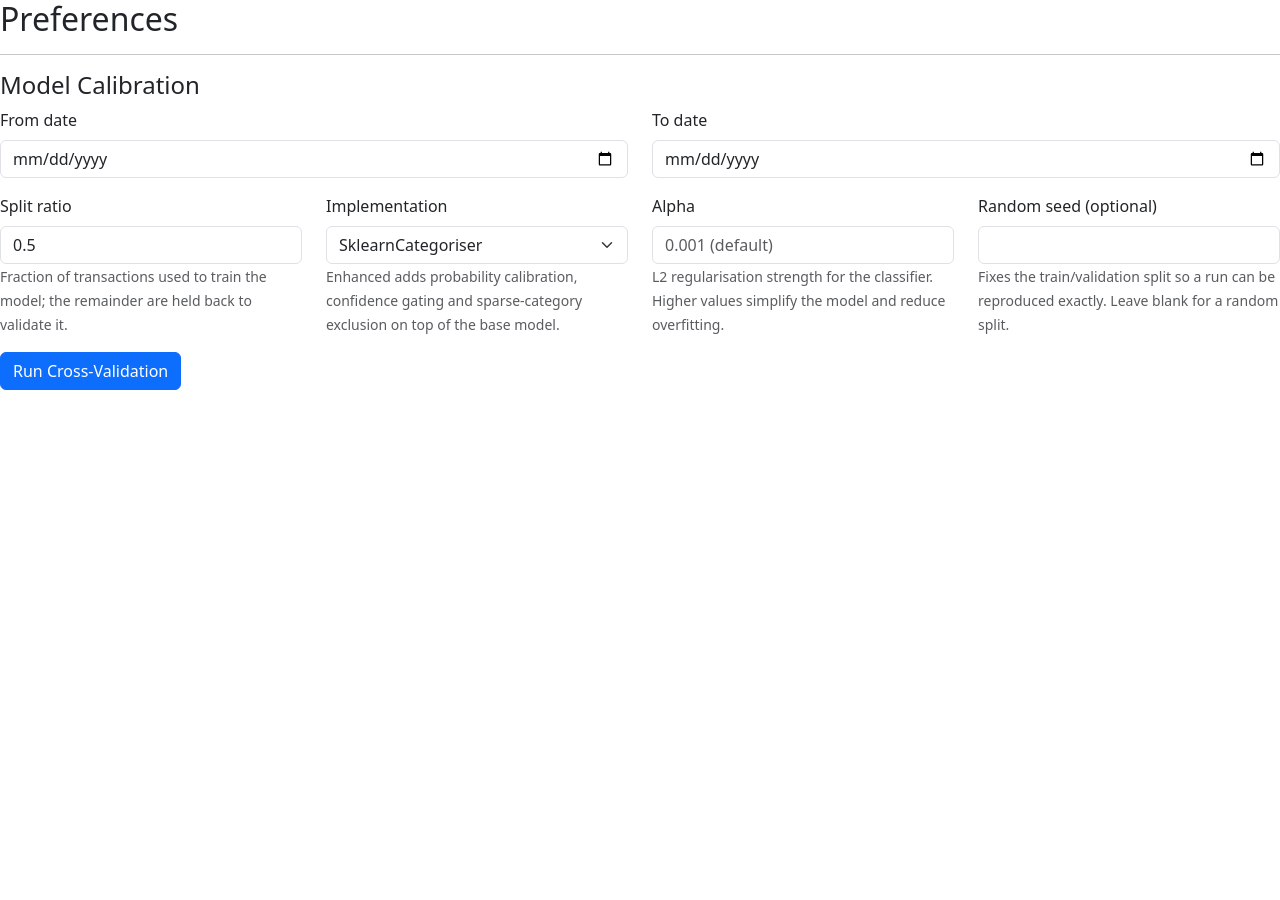
Preferences › should dismiss success alert and clear saved model
Type "2025-01-01" into the date field labelled "From date". click: (314, 159)
box: x1=0 y1=140 x2=628 y2=178
Type "2025-12-31" into the date field labelled "To date". click: (966, 159)
box: x1=652 y1=140 x2=1279 y2=178
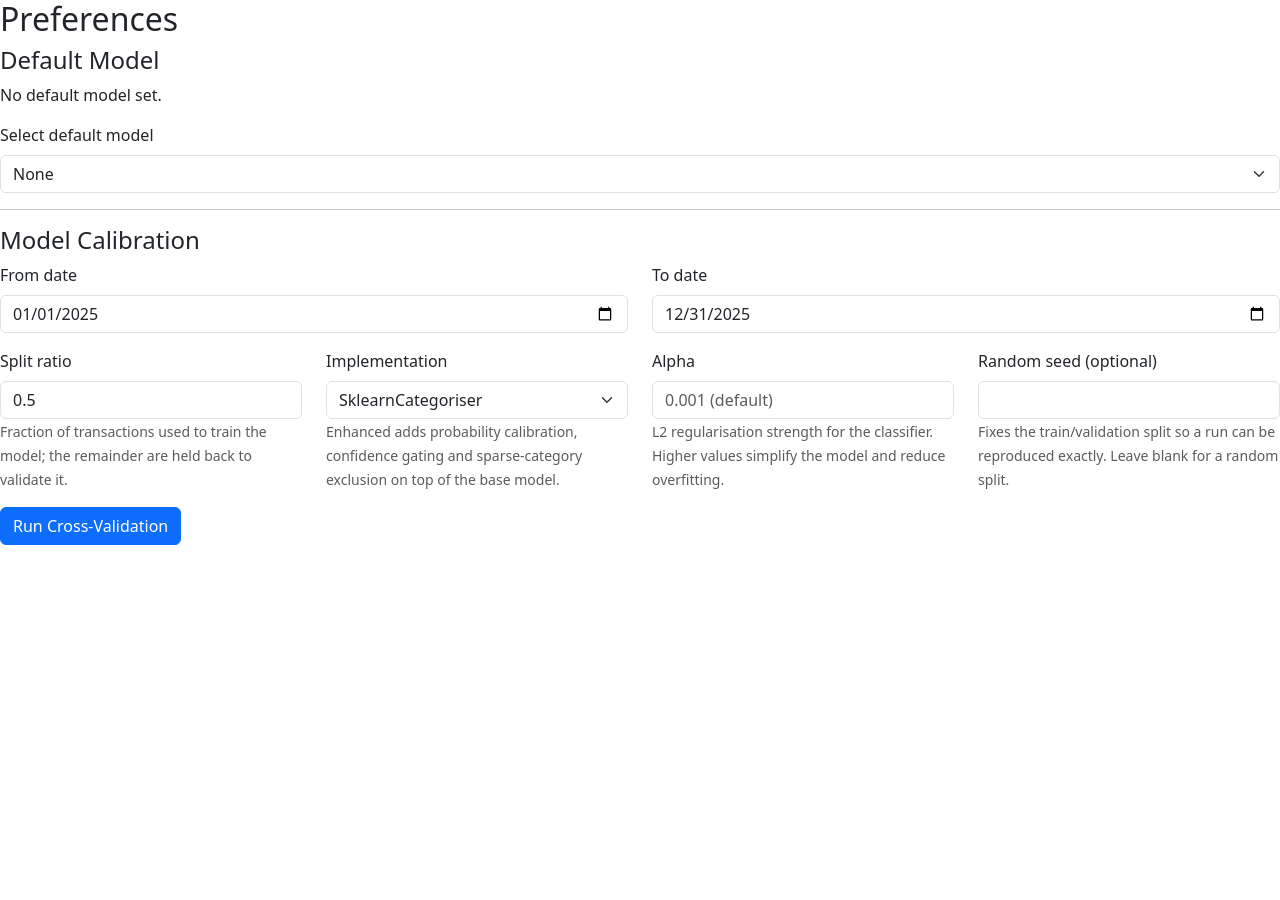
Click the button "Run Cross-Validation". click: (91, 526)
box: x1=0 y1=507 x2=181 y2=545
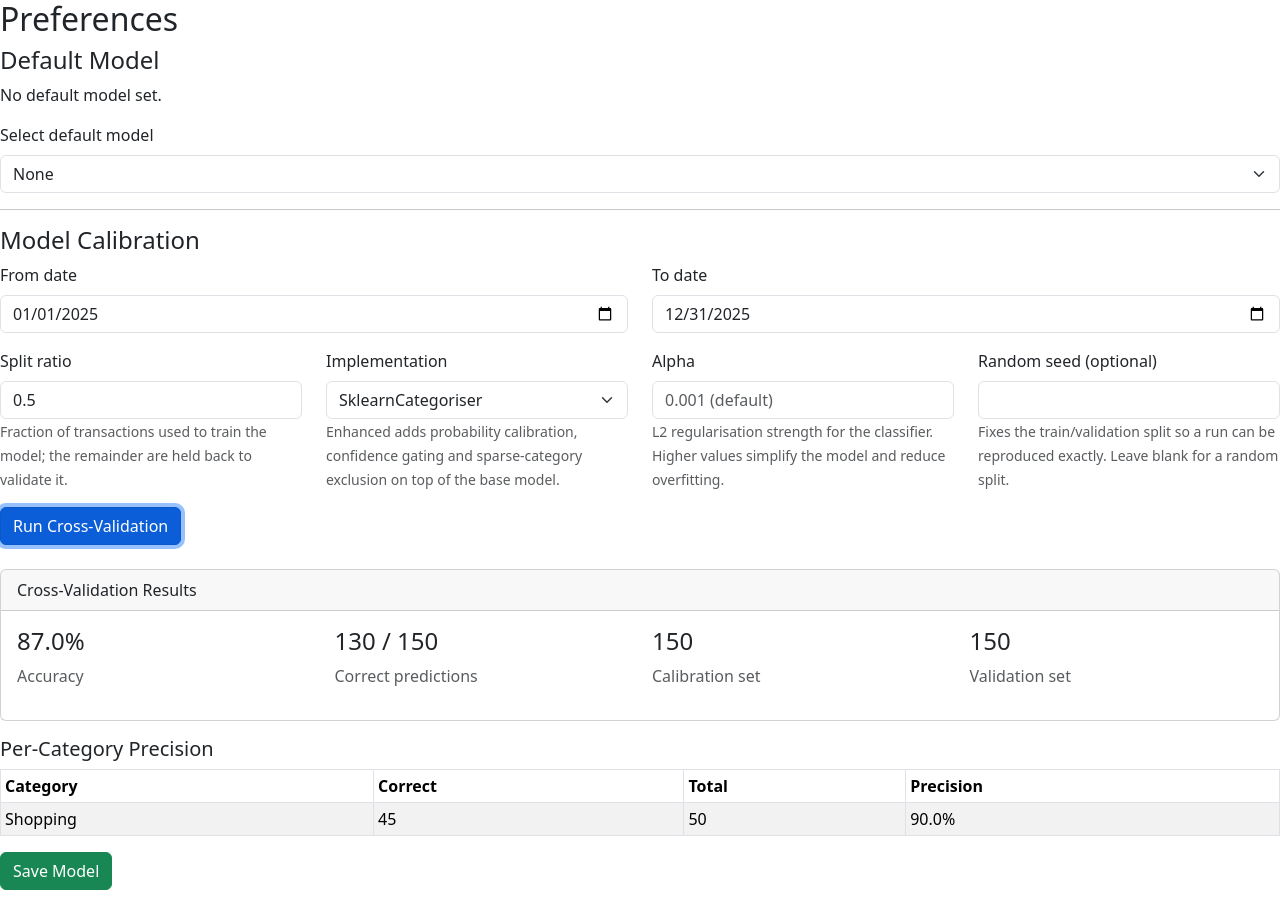
Expected: the button "Save Model" is shown
Click the button "Save Model". click: (56, 871)
box: x1=0 y1=852 x2=112 y2=890
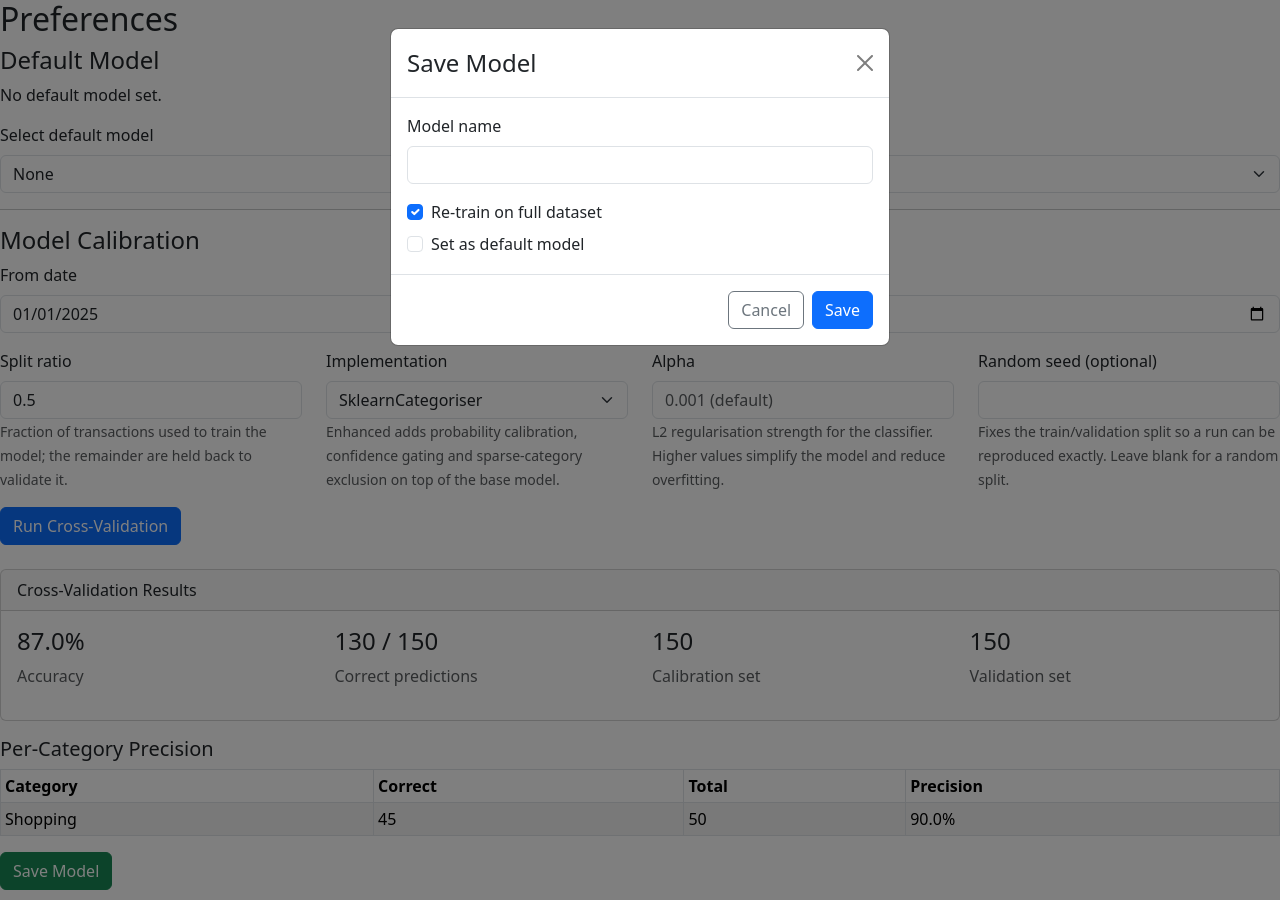
Expected: the field labelled "Model name" is shown
Type "my-model" into the field labelled "Model name". click: (640, 165)
box: x1=407 y1=146 x2=873 y2=184
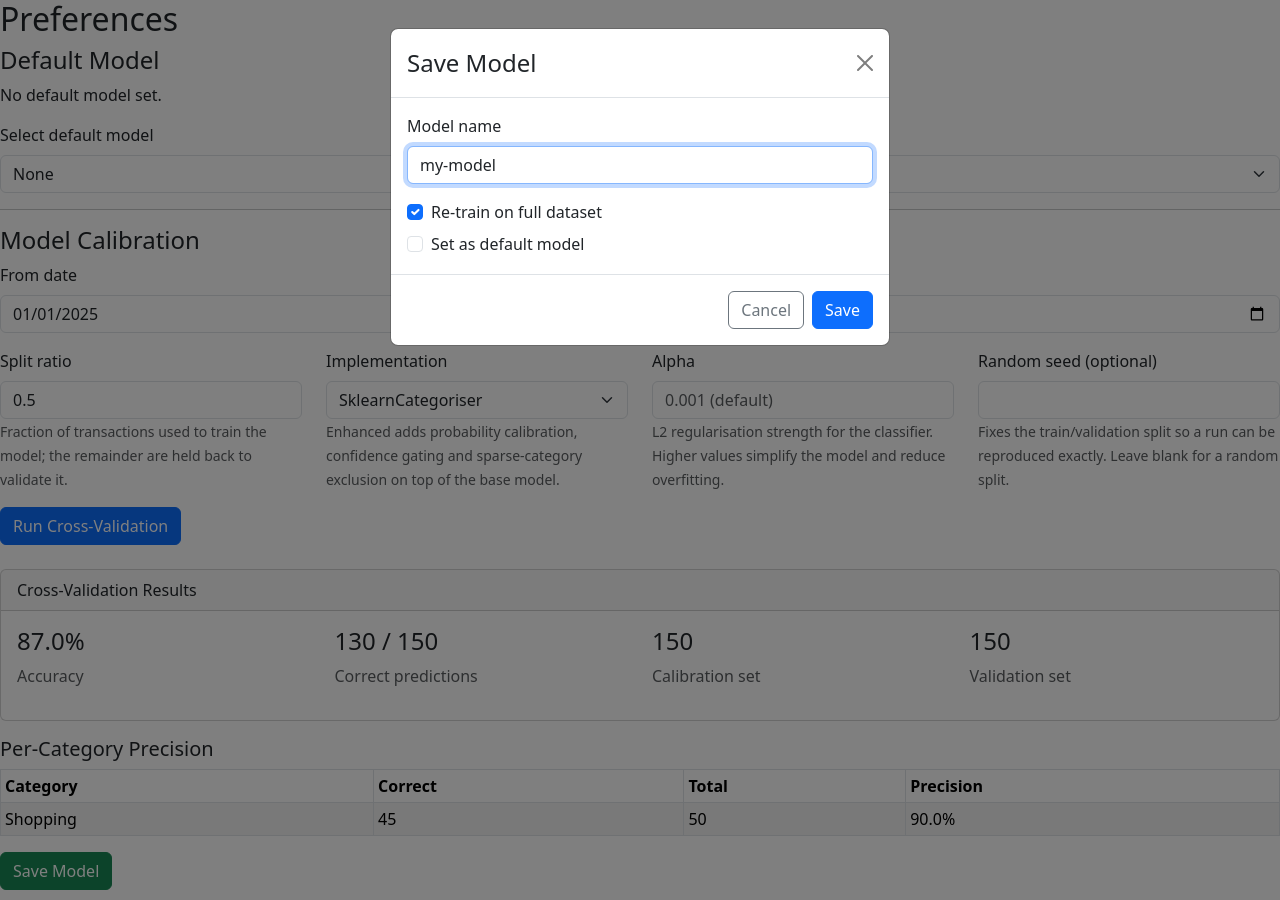
Click the button "Save". click: (843, 310)
box: x1=812 y1=291 x2=873 y2=329
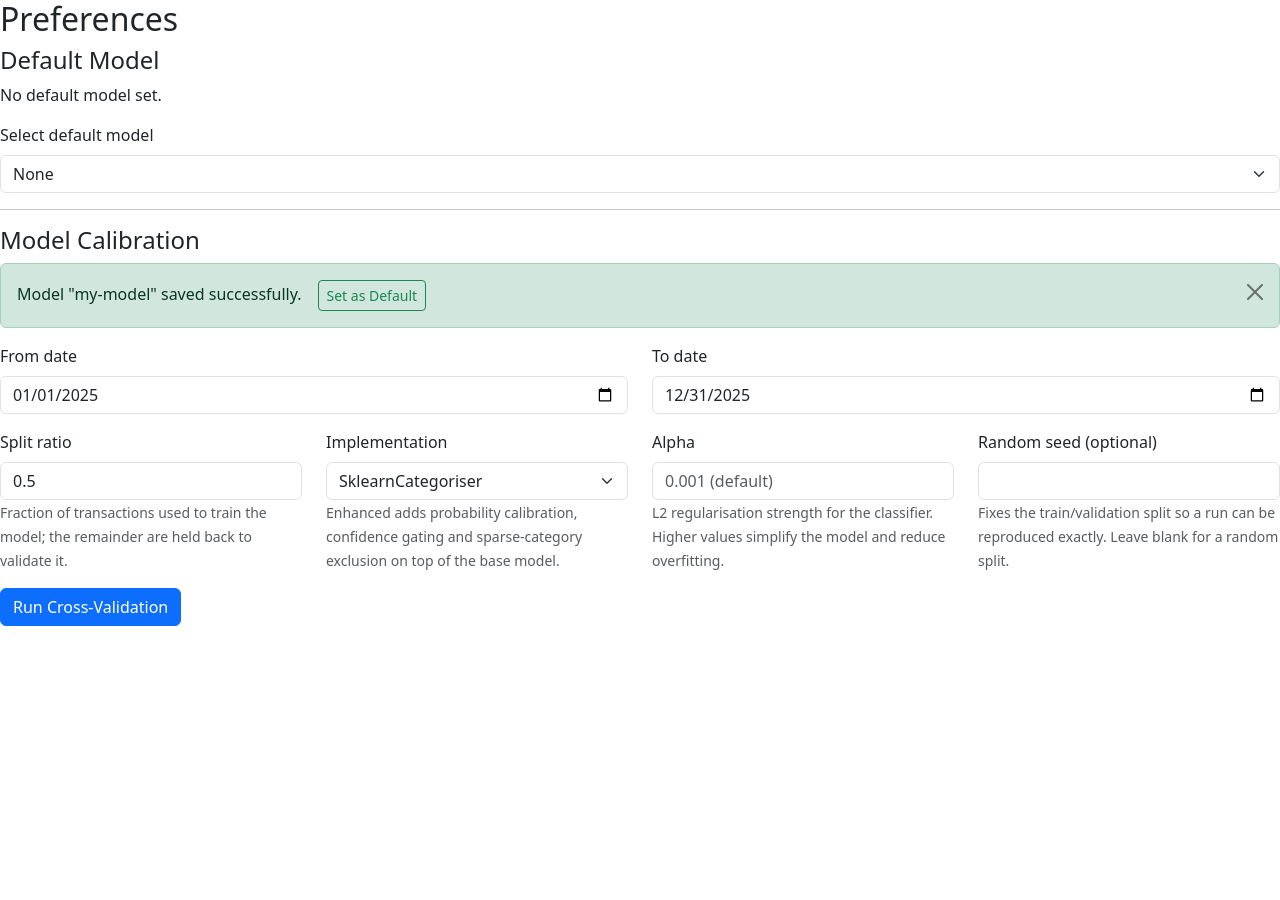
Expected: the text "Model \"my-model\" saved successfully." is shown, x1=17 y1=283 x2=302 y2=305
Click the button named "Close alert". click: (1255, 292)
box: x1=1231 y1=264 x2=1279 y2=320
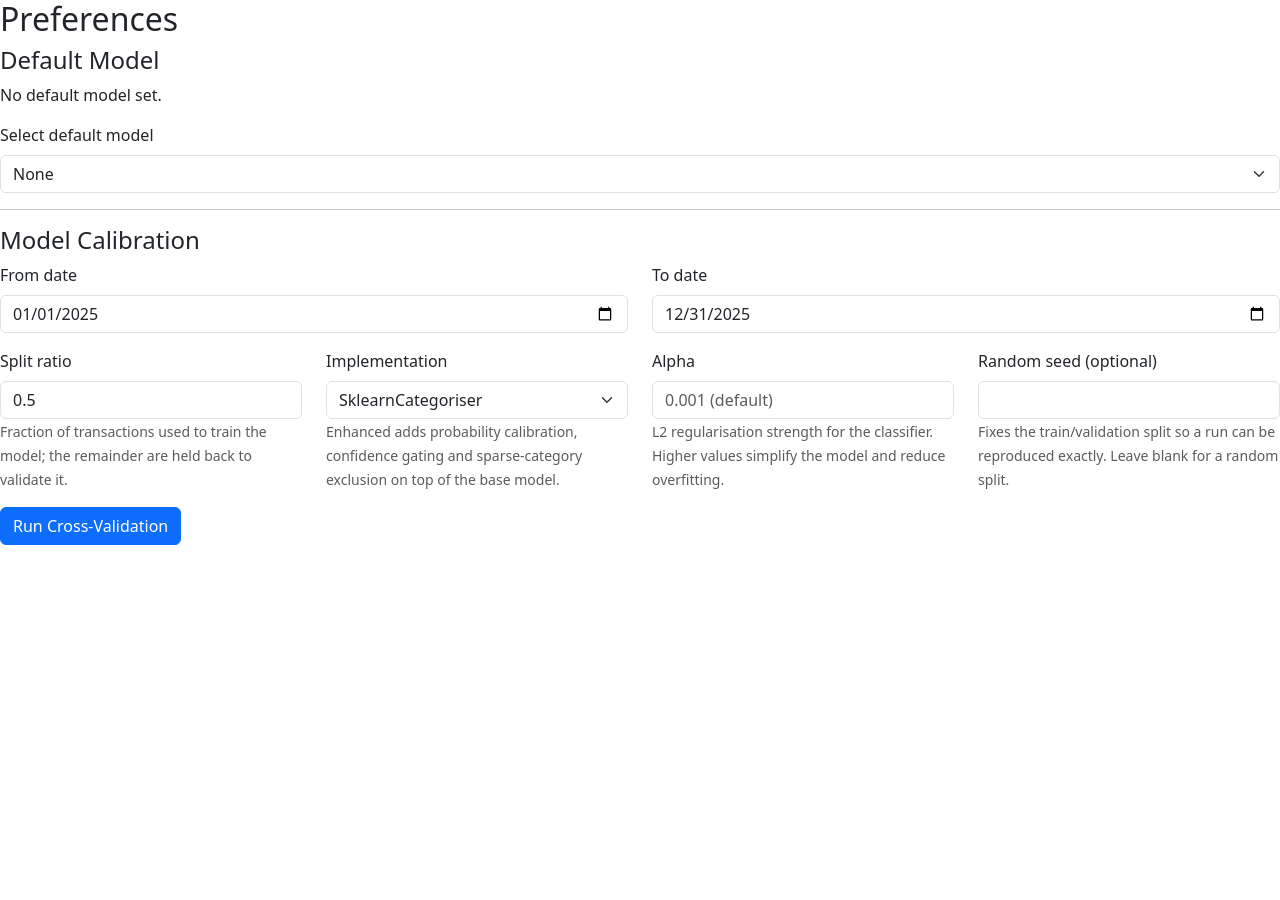
Expected: the text "Model \"my-model\" saved successfully." is gone
Expected: the button "Set as Default" is gone
